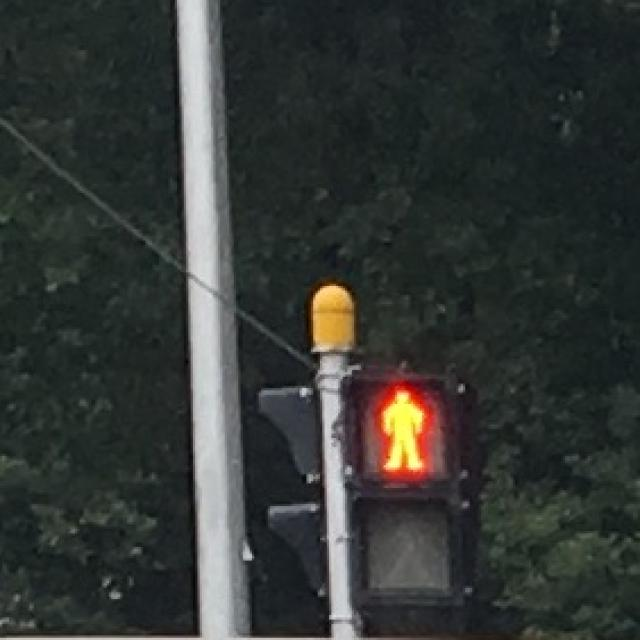red_light: (363, 381, 445, 479)
